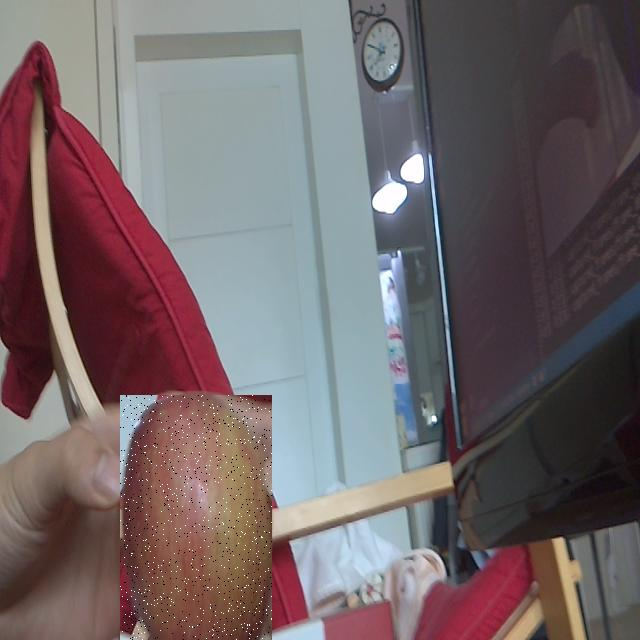apple: (120, 395, 272, 640)
